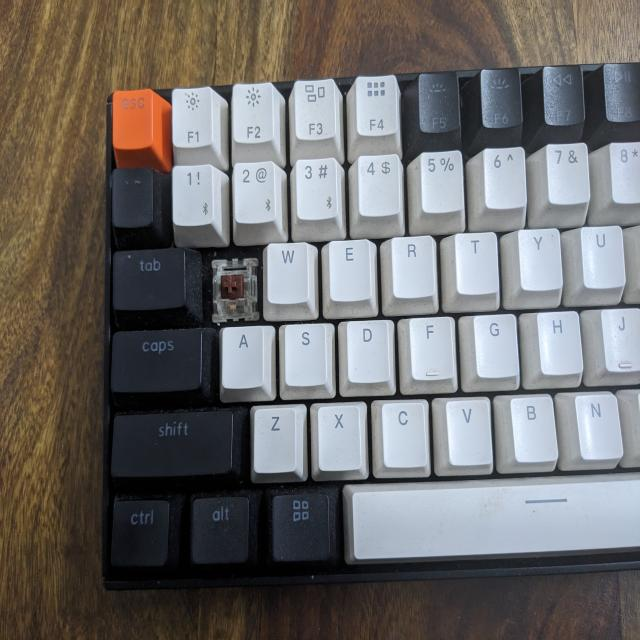C: (208, 254, 260, 320)
